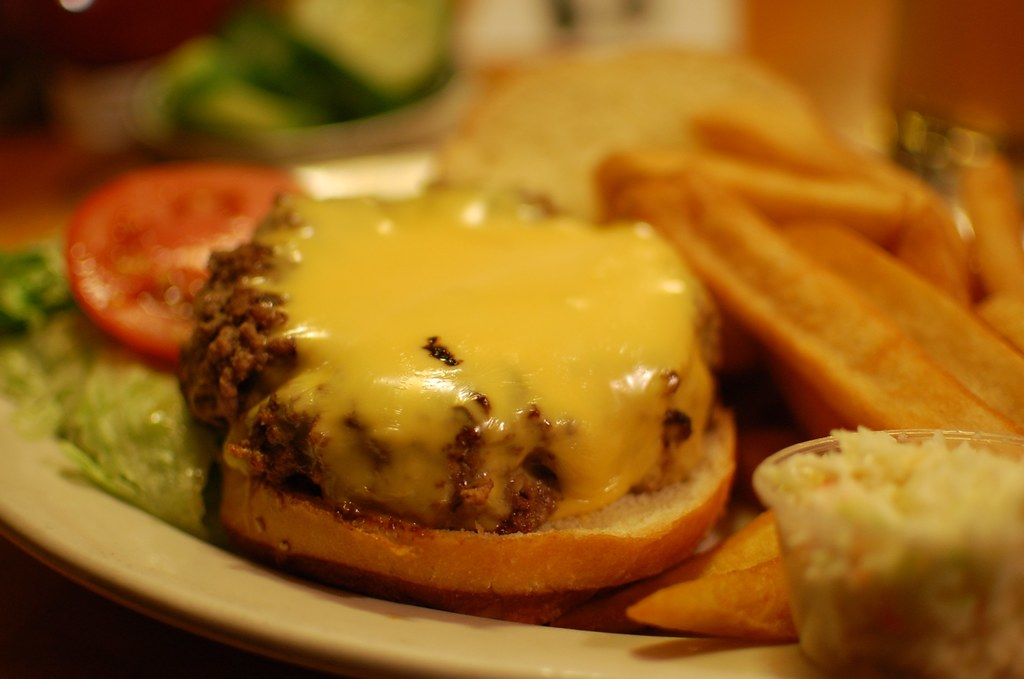French fries: (579, 90, 1023, 654)
